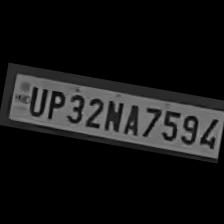2: (80, 91, 106, 128)
3: (61, 88, 86, 124)
4: (194, 112, 221, 148)
5: (155, 105, 181, 142)
7: (136, 101, 161, 138)
9: (176, 108, 202, 145)
A: (118, 98, 142, 136)
N: (100, 94, 125, 132)
P: (42, 84, 66, 120)
U: (22, 80, 46, 116)
